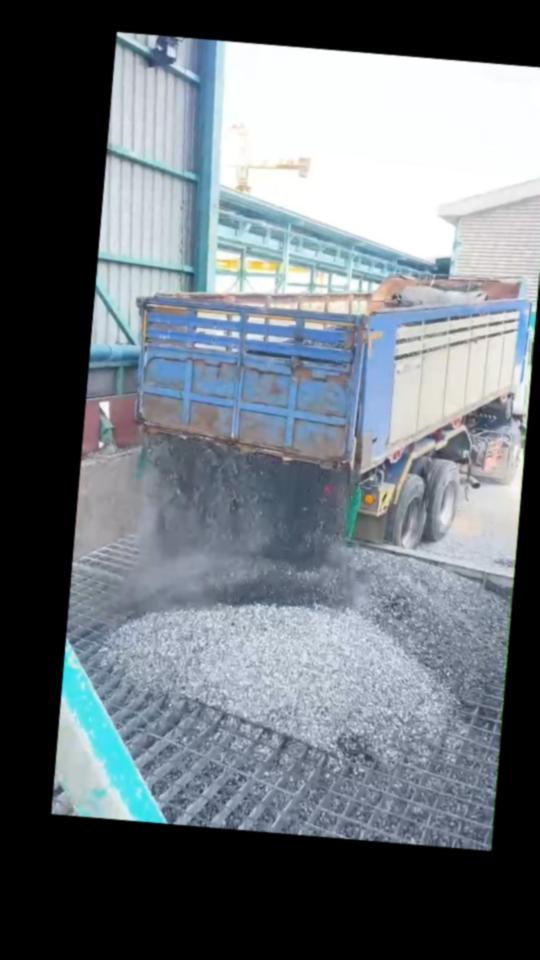gravel: (105, 549, 507, 762), (134, 434, 353, 617)
